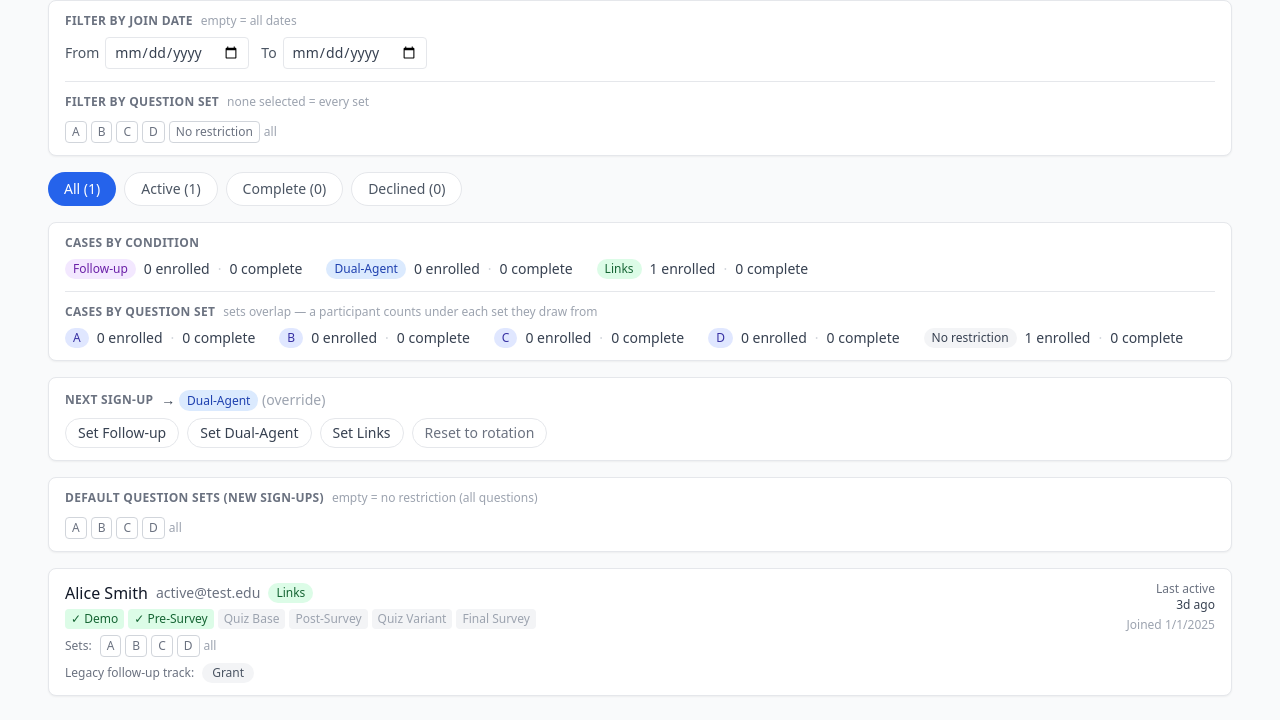
Test: ParticipantsPanelPage › next sign-up assignment › clears the override with Reset to rotation
The image size is (1280, 720).
(page scrolled)
Expected: the text "(override)" is shown, top-left (262, 390), bottom-right (325, 409)
Click the button "Reset to rotation": {"x": 479, "y": 433} top-left (412, 418), bottom-right (547, 448)
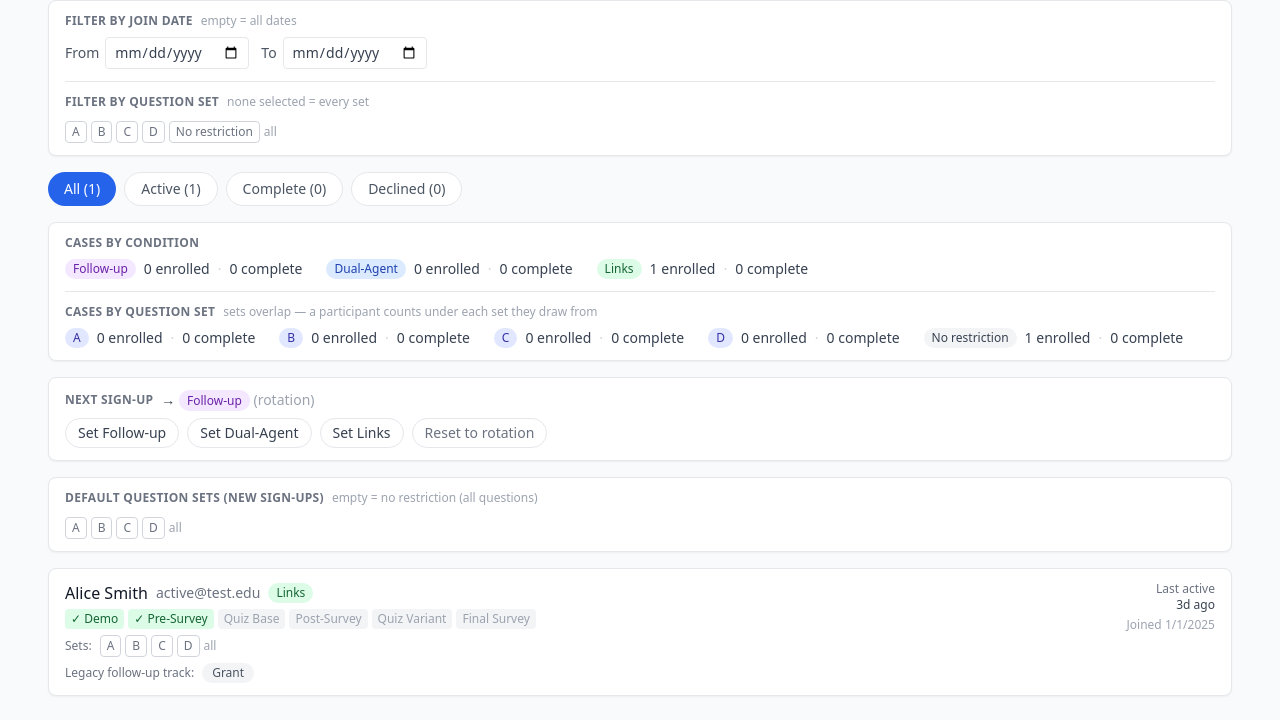
Expected: the text "(rotation)" is shown, top-left (253, 390), bottom-right (314, 409)
